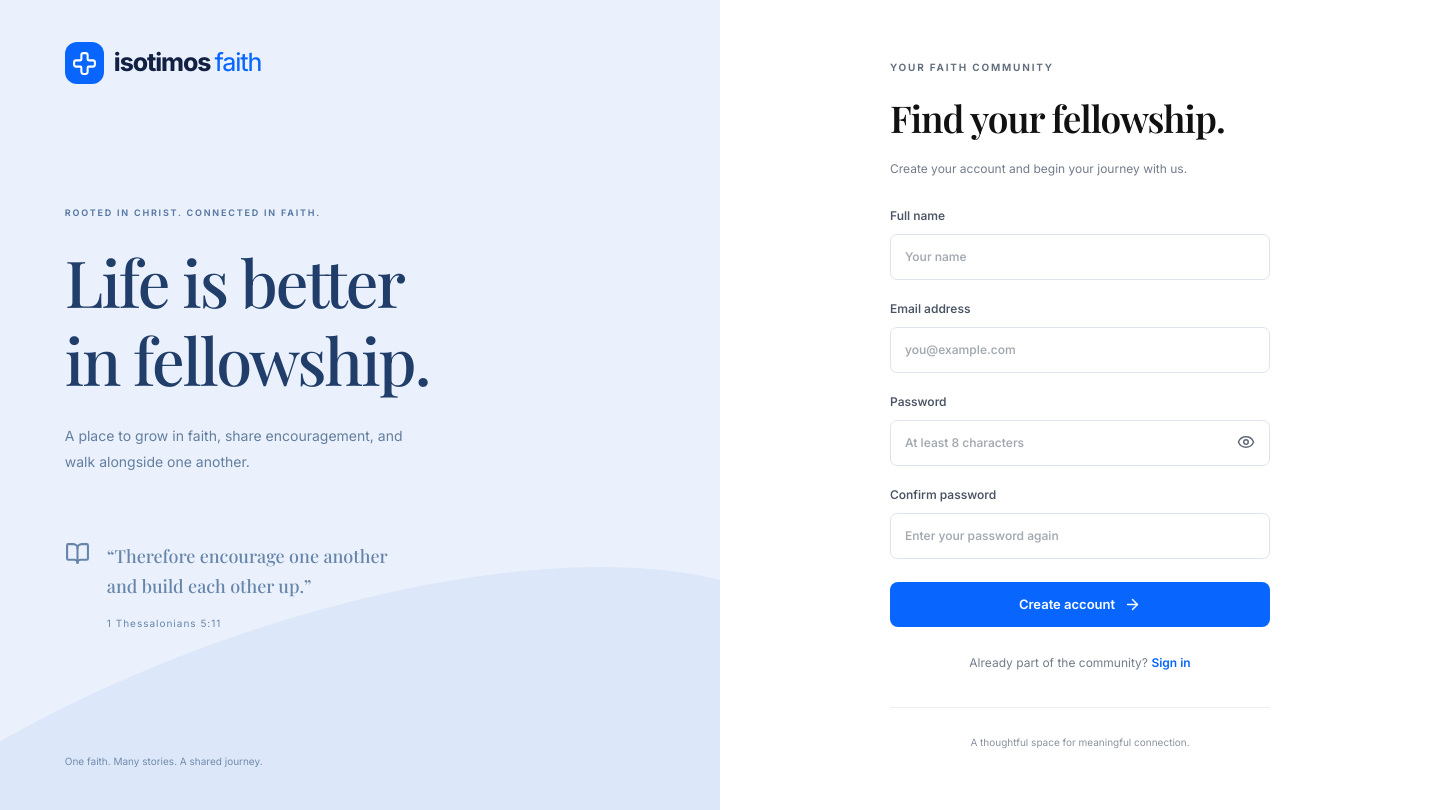
Test: real auth UI and provider with mocked Supabase transport › registers without assigning roles and waits for email confirmation before profile creation
This screenshot has width=1440, height=810.
Step 1. Type "Grace Williams" into the field labelled "Full name" → x=1080, y=257, box [890,234,1270,280]
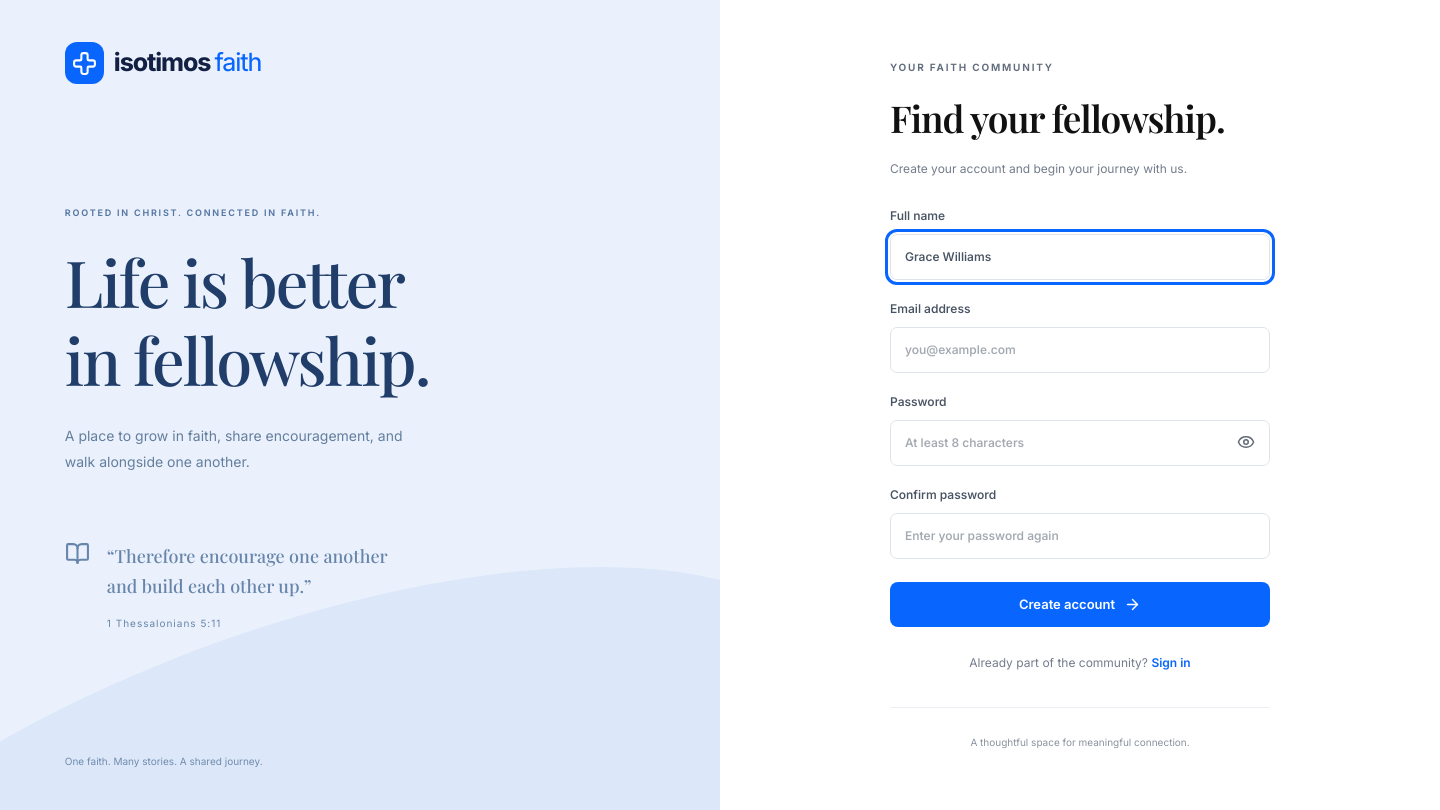
Step 2. Type "grace@example.com" into the field labelled "Email address" → x=1080, y=350, box [890,327,1270,373]
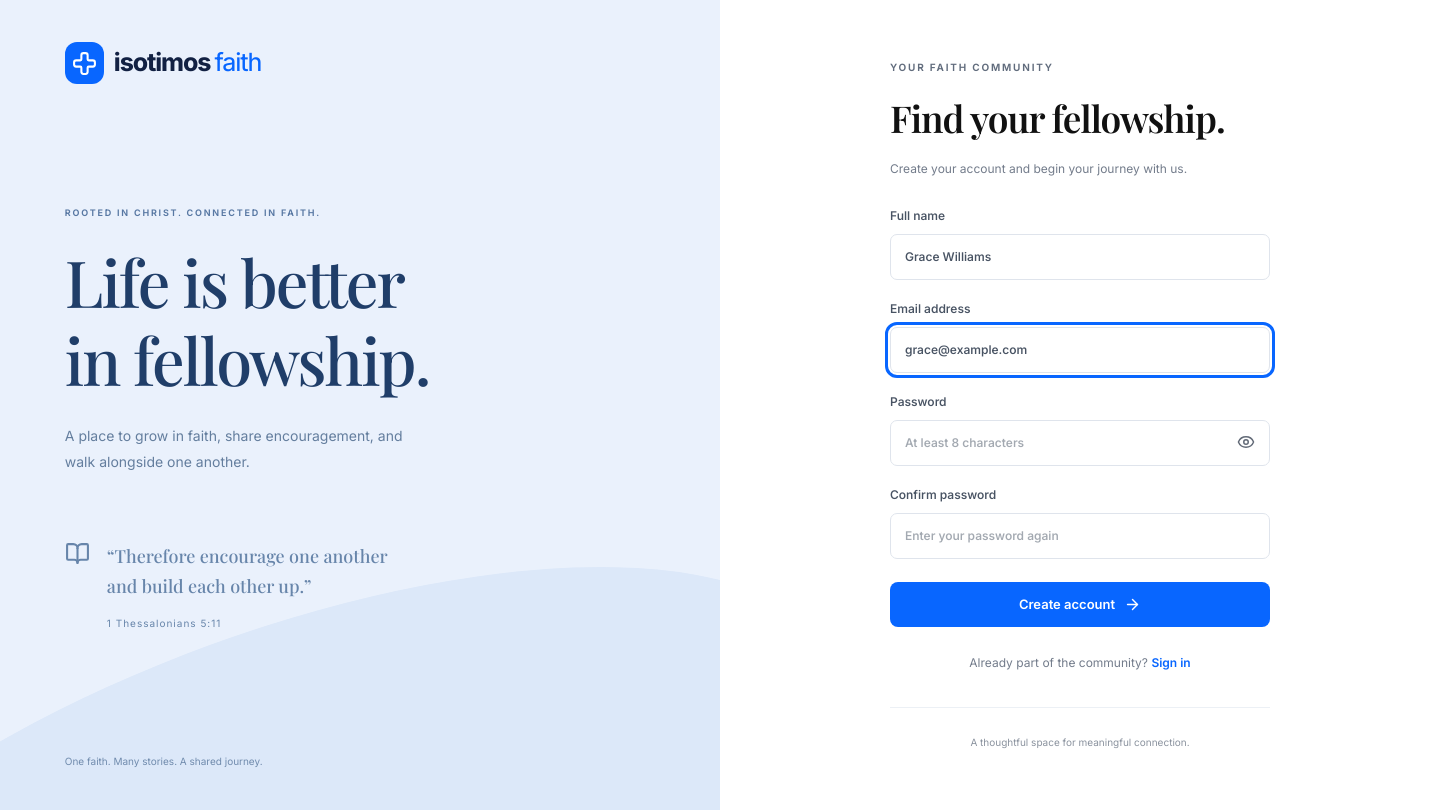
Step 3. Type "strong-password-123" into the password field labelled "Password" → x=1080, y=443, box [890,420,1270,466]
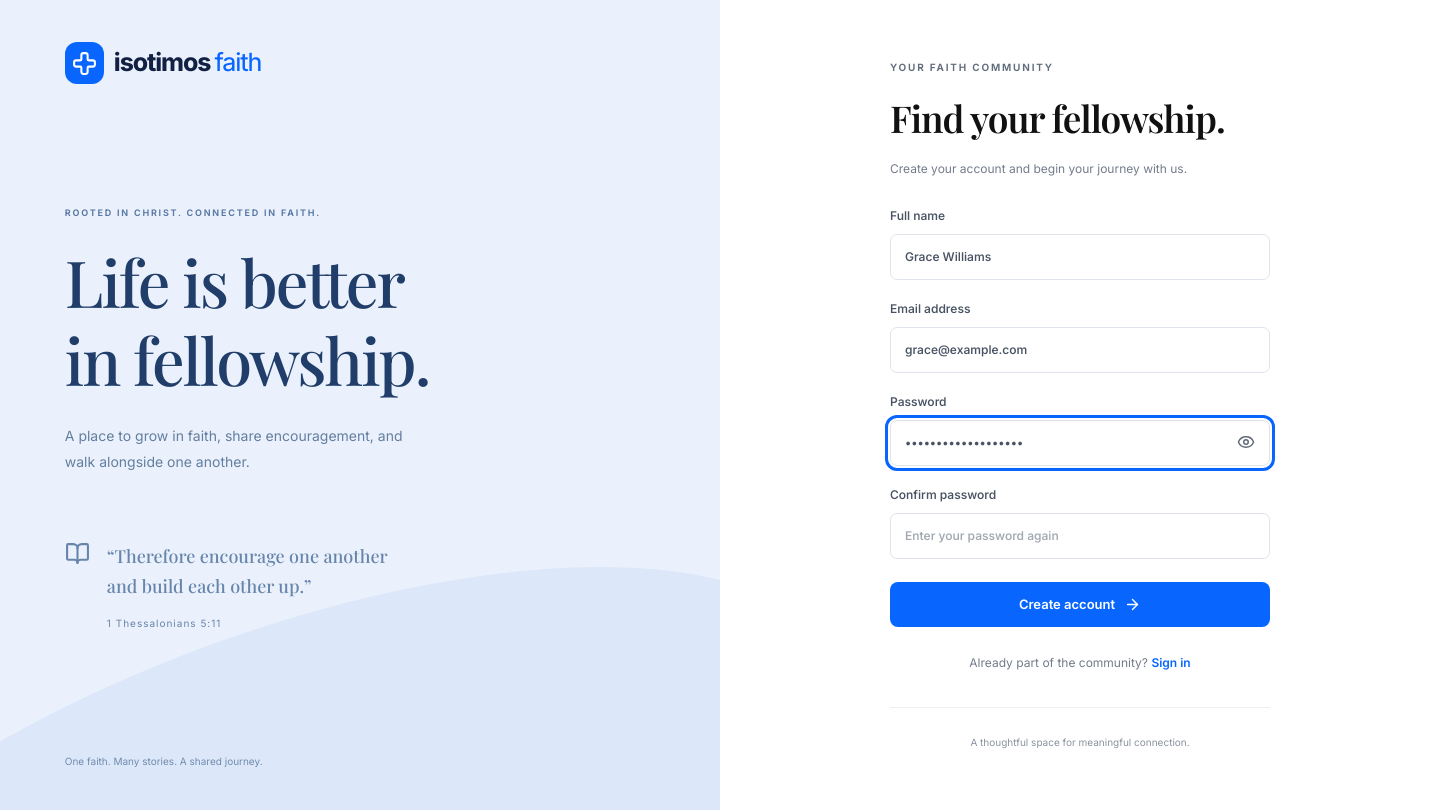
Step 4. Type "strong-password-123" into the password field labelled "Confirm password" → x=1080, y=536, box [890,513,1270,559]
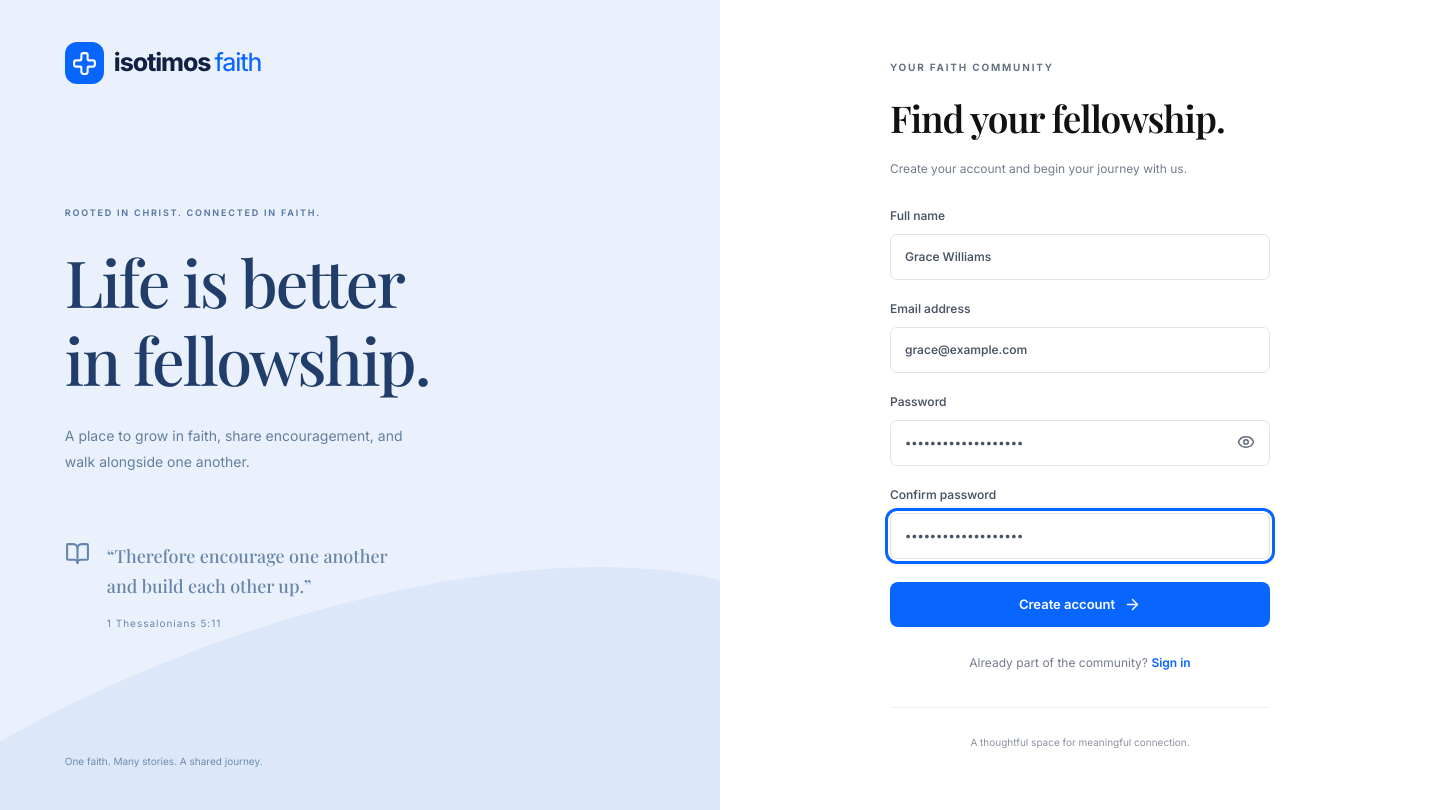
Step 5. Click the button "Create account" → x=1080, y=605, box [890,582,1270,627]
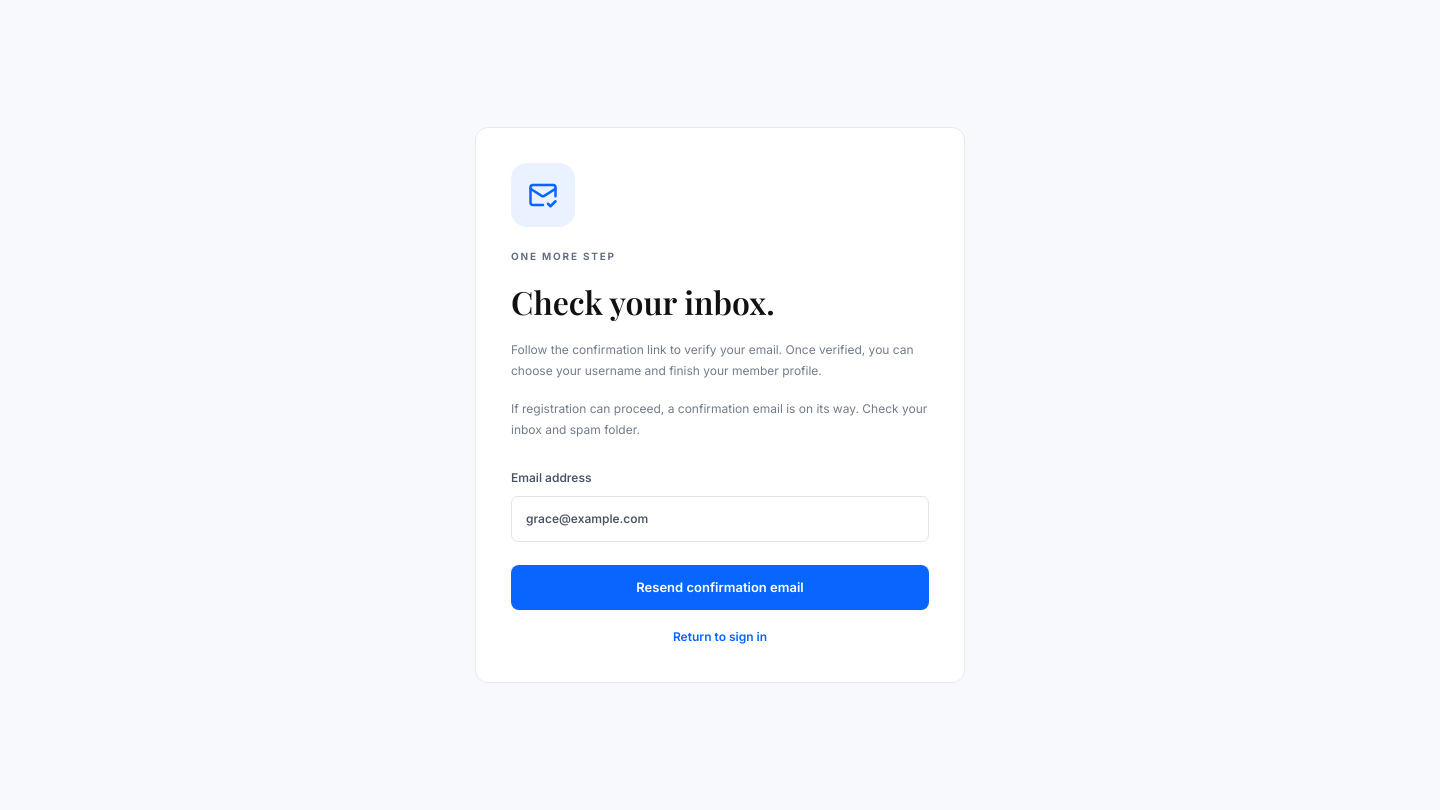
Result: the heading "Check your inbox." is shown at [511,280,775,322]
